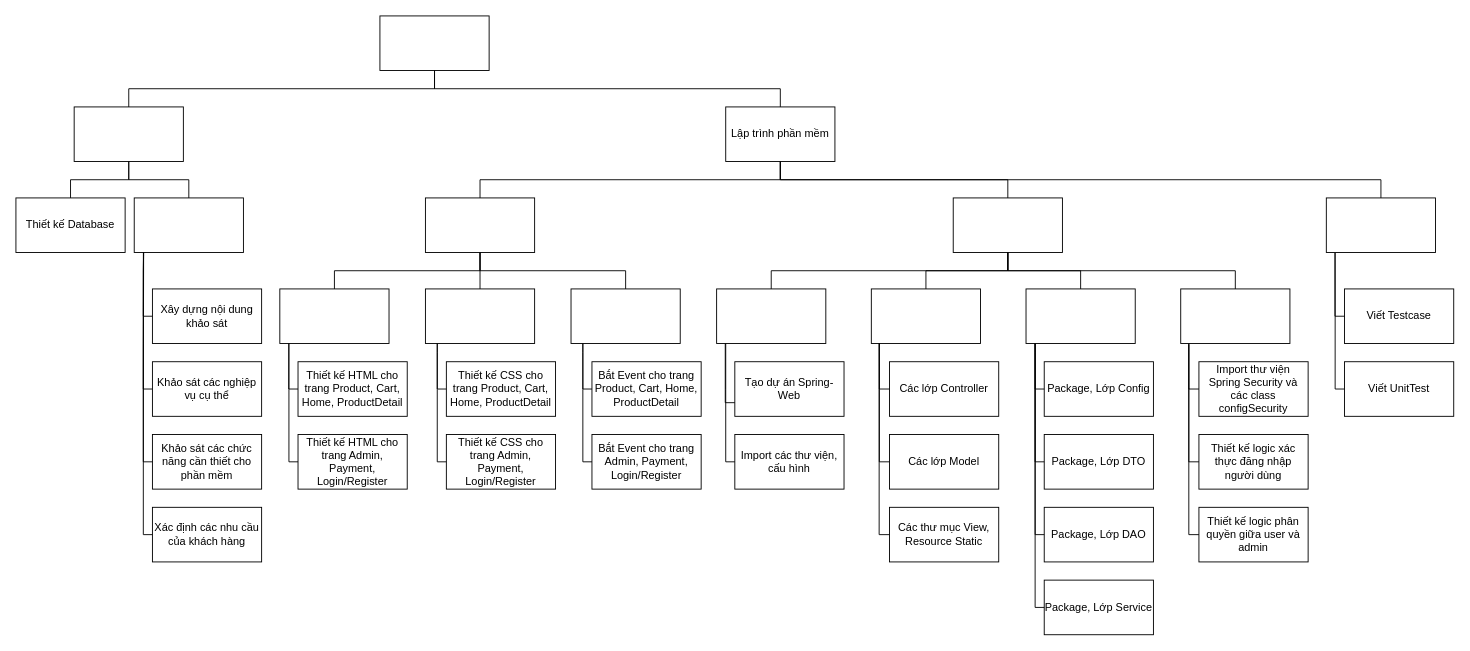
The diagram is 1470 pixels wide and 651 high, and some of its shapes have lost their labels. The box of each missing label's shape, as (x1, y1, x2, y2) in pixels:
Demo chương trình Spring-Web đầu tiên: (716, 288, 826, 344)
Khảo sát và xác định nhu cầu: (133, 197, 243, 253)
Khảo sát và xây dựng database cho dự án: (73, 106, 183, 162)
Kiểm thử dự án: (1325, 197, 1436, 253)
Lập trình chi tiết chức năng: (952, 197, 1062, 253)
Lập trình mức cơ sở: (425, 197, 535, 253)
Sử dụng Spring Security: (1180, 288, 1290, 344)
Thiết kế các package, lớp dịch vụ khác: (1025, 288, 1135, 344)
Tạo khung CSS cho dự án: (425, 288, 535, 344)
Tạo khung HTML cho dự án: (279, 288, 389, 344)
Tạo khung JavaScript để bắt các Event: (570, 288, 680, 344)
Xây dựng kiến trúc dự án theo mô hình MVC cơ bản: (870, 288, 981, 344)
Xây dựng phần mềm bán quần áo nam Singed Shop: (379, 15, 489, 71)
